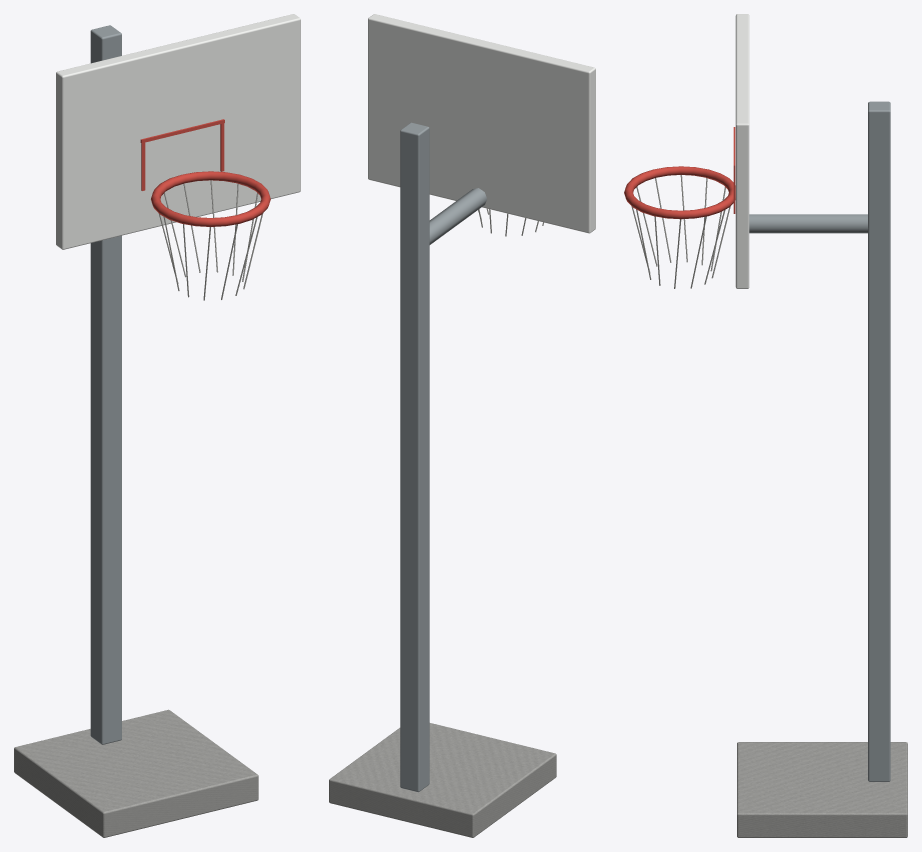
The model's file is prison-complex-builder-basketball-hoop-6ecce3e9__25675.glb.
3 views of the same model, side by side, from view 1: azimuth 30°, elevation 25°; view 2: azimuth 150°, elevation 25°; view 3: azimuth 270°, elevation 25° (orthographic). The views are drawn at different scales.
Visible parts, largest first — view 1: basketball-hoop; view 2: basketball-hoop; view 3: basketball-hoop.
Part boxes in pixels (x1,y1,x2,y2): basketball-hoop: (14,14,300,837); basketball-hoop: (329,14,595,837); basketball-hoop: (624,14,907,837).
Bounding box in the file's own units: 1.15 × 3.55 × 1.25.
Materials: 5 (1 with a texture image).
